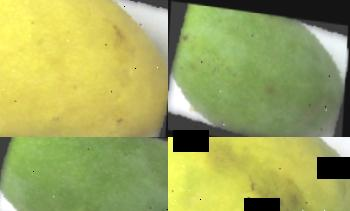PartiallyRipe: (168, 137, 350, 211)
Ripe: (0, 0, 168, 137)
Unripe: (168, 0, 348, 137), (0, 137, 168, 211)
